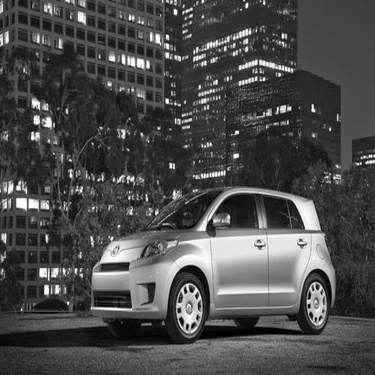car: (86, 178, 340, 352), (21, 293, 75, 322)
